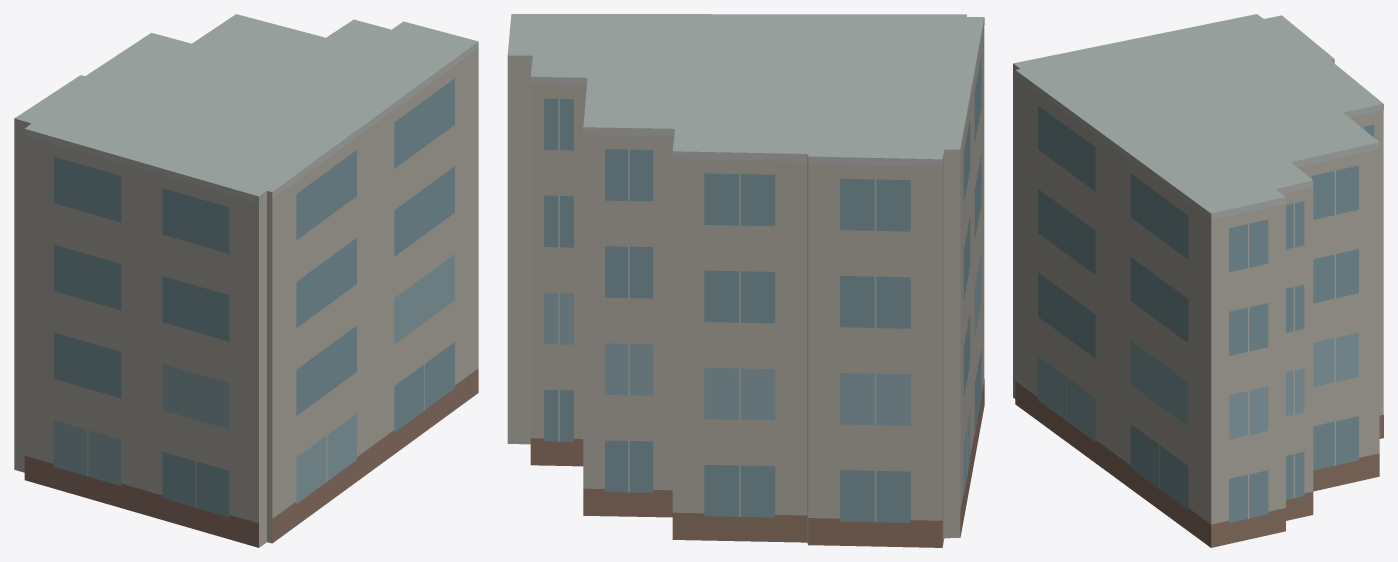
The model's file is survey-upis-32783121.glb.
3 views of the same model, side by side, from view 1: azimuth 30°, elevation 25°; view 2: azimuth 150°, elevation 25°; view 3: azimuth 270°, elevation 25° (orthographic). The views are drawn at different scales.
Visible parts, largest first — view 1: survey-upis-32783121.tmp; view 2: survey-upis-32783121.tmp; view 3: survey-upis-32783121.tmp.
Part boxes in pixels (x1,y1,x2,y2): survey-upis-32783121.tmp: [14, 14, 478, 547]; survey-upis-32783121.tmp: [507, 14, 984, 547]; survey-upis-32783121.tmp: [1013, 14, 1383, 547].
Size of the model in its own units: 16.14 by 12.6 by 12.67.
